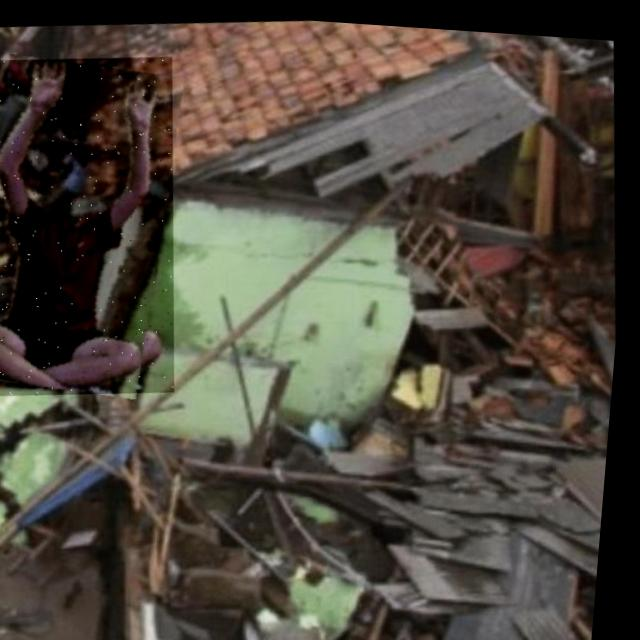Person in Rubble: (0, 44, 201, 406)
